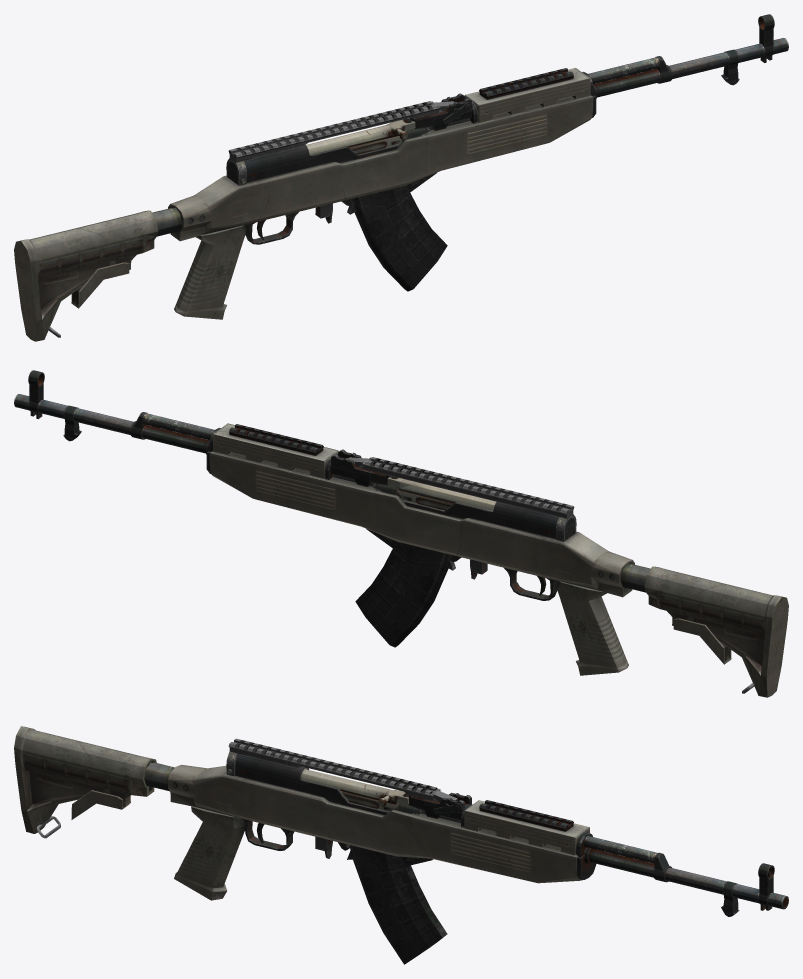
File: sks.glb
3 views of the same model, one above another, from view 1: azimuth 30°, elevation 25°; view 2: azimuth 150°, elevation 25°; view 3: azimuth 330°, elevation 25° (orthographic).
Visible parts, largest first — view 1: SKS; view 2: SKS; view 3: SKS.
Boxes of the visible parts, x1=… form: SKS: x1=14, y1=14, x2=788, y2=341; SKS: x1=14, y1=370, x2=788, y2=697; SKS: x1=14, y1=726, x2=788, y2=964.
Bounding box in the file's own units: 1.06 × 0.2471 × 0.0505.
1 material, 1 textured.
